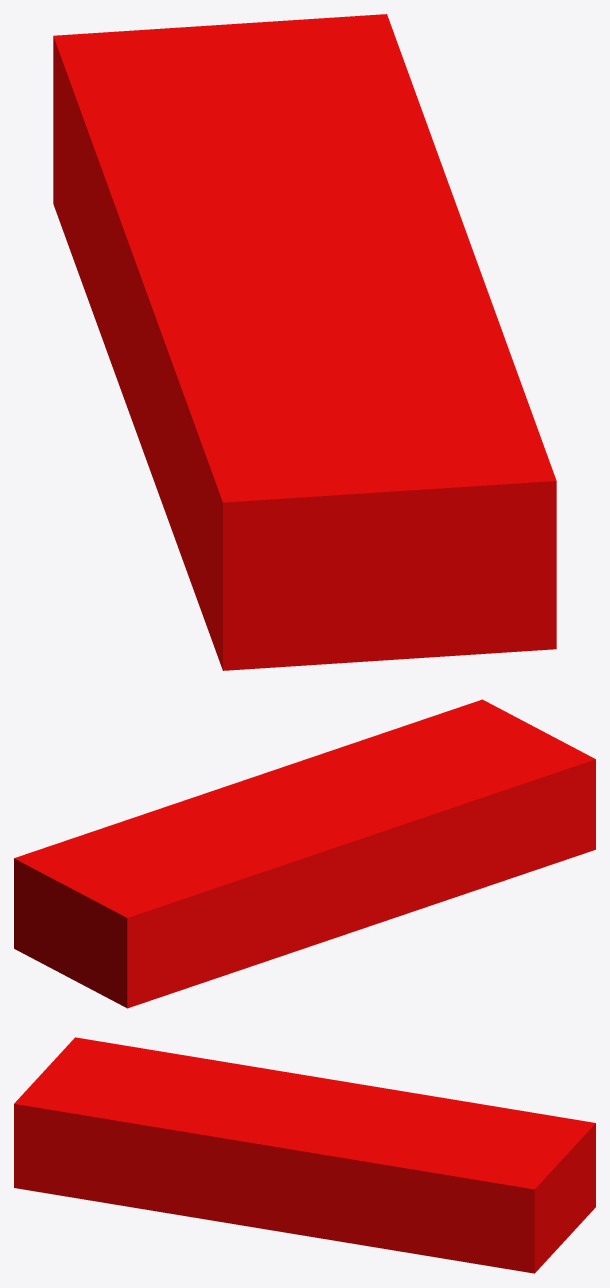
The model's file is BosquesdelasVictorias_Dummys_INV_Mz11.fbx.
The picture shows the model from 3 angles, top to bottom: view 1: azimuth 30°, elevation 25°; view 2: azimuth 150°, elevation 25°; view 3: azimuth 270°, elevation 25°; orthographic projection. The views are drawn at different scales.
Parts seen in each view (by area): view 1: Cube__9_; view 2: Cube__9_; view 3: Cube__9_.
Boxes of the visible parts, <box> form: Cube__9_: <box>53,14,556,670</box>; Cube__9_: <box>14,699,595,1008</box>; Cube__9_: <box>14,1037,595,1273</box>.
Bounding box in the file's own units: 3738 × 964 × 6042.
